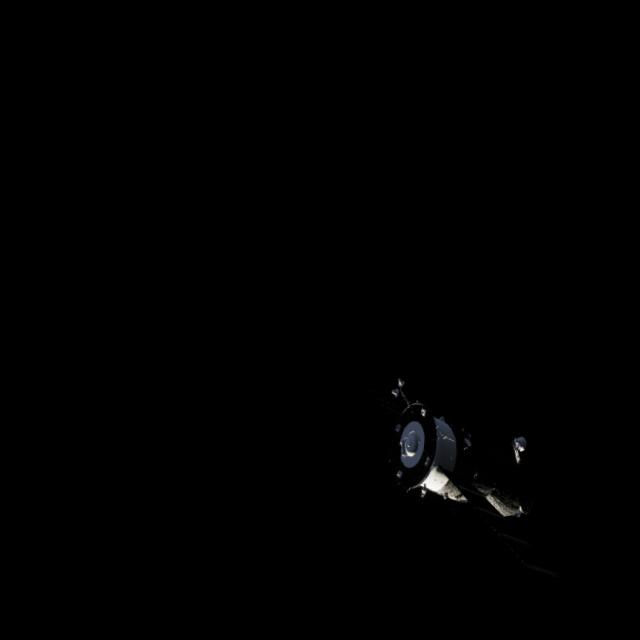Satellites revolving around earth: (370, 372, 542, 528)
